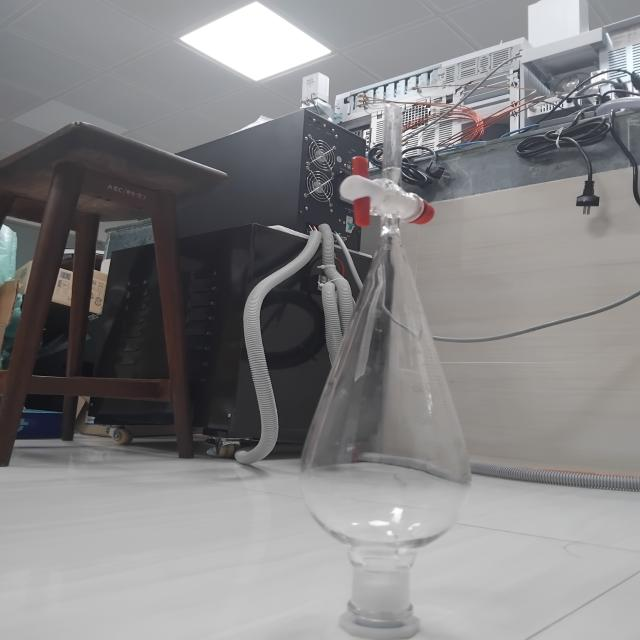Separating_Funnel: (275, 61, 512, 640)
